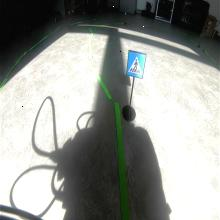crosswalk: (126, 48, 146, 78)
